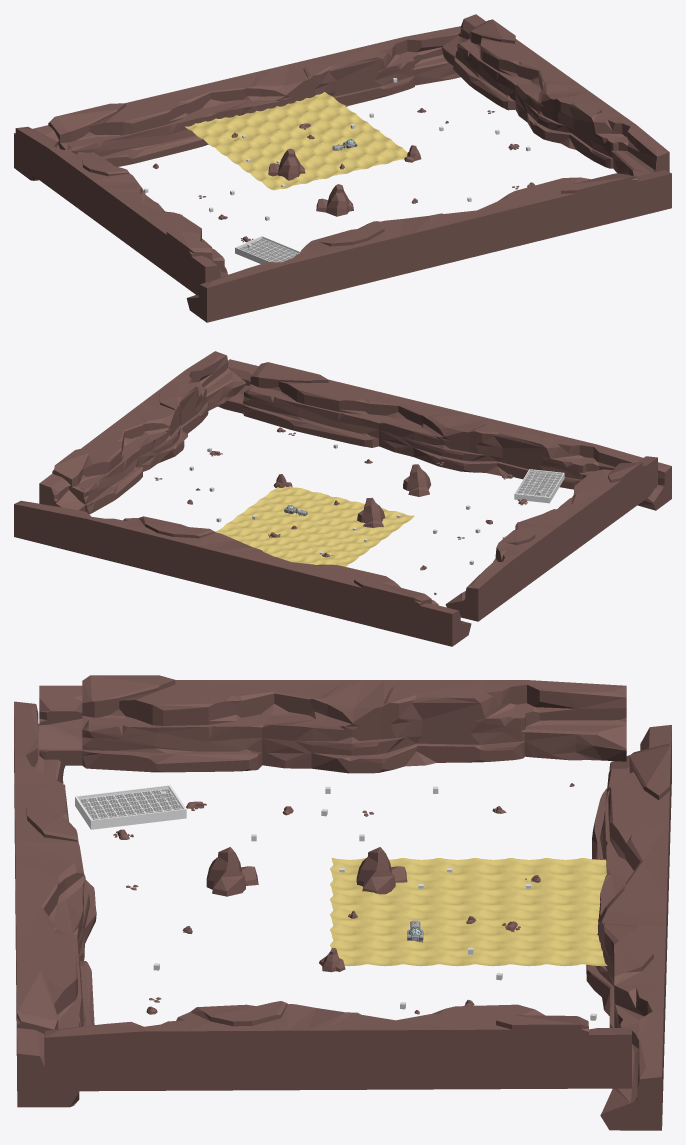
File: FirstLevel.glb
3 views of the same model, one above another, from view 1: azimuth 30°, elevation 25°; view 2: azimuth 150°, elevation 25°; view 3: azimuth 270°, elevation 25° (orthographic). The views are drawn at different scales.
Parts seen in each view (by area): view 1: Cliff_Cube.003, Cliff_Cube.002, Cliff_Cube.001, Cliff_Cube.021, Plane, Object_4, stone_7.005, Object_2, Object_3, stone_7.002; view 2: Cliff_Cube.002, Cliff_Cube.003, Cliff_Cube.001, Cliff_Cube.021, Plane, Object_4, Object_3, Object_2, stone_7.005, stone_7.002; view 3: Cliff_Cube.021, Cliff_Cube.001, Plane, Cliff_Cube.002, Cliff_Cube.003, Object_3, Object_4, Object_2, stone_7.005, stone_7.002.
Boxes of the visible parts, x1,y1,x2,y2 form: Cliff_Cube.003: (186,170,671,322); Cliff_Cube.002: (14,26,460,180); Cliff_Cube.001: (442,14,669,176); Cliff_Cube.021: (15,126,228,295); Plane: (185,92,407,190); Object_4: (239,237,299,261); stone_7.005: (316,184,353,216); Object_2: (239,239,298,262); Object_3: (235,236,300,263); stone_7.002: (268,148,305,180); Cliff_Cube.002: (14,500,471,646); Cliff_Cube.003: (218,359,671,510); Cliff_Cube.001: (39,351,245,514); Cliff_Cube.021: (445,456,657,621); Plane: (215,486,414,566); Object_4: (516,470,562,496); Object_3: (514,469,564,503); Object_2: (517,472,561,496); stone_7.005: (403,464,431,496); stone_7.002: (357,497,385,527); Cliff_Cube.021: (39,675,626,773); Cliff_Cube.001: (44,1001,631,1091); Plane: (330,858,607,966); Cliff_Cube.002: (586,725,671,1130); Cliff_Cube.003: (14,701,96,1107); Object_3: (75,785,186,829); Object_4: (79,787,182,819); Object_2: (80,789,181,819); stone_7.005: (206,847,258,896); stone_7.002: (356,847,407,894).
Size of what is drawn, in the model's own units: 329 by 39.04 by 249.
